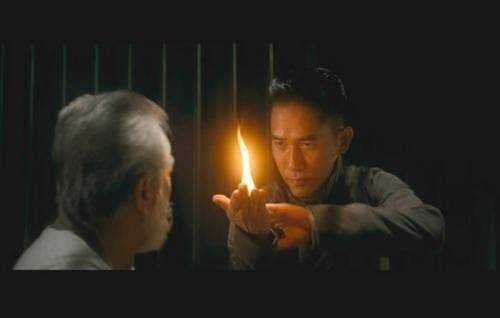fire: (233, 122, 258, 195)
